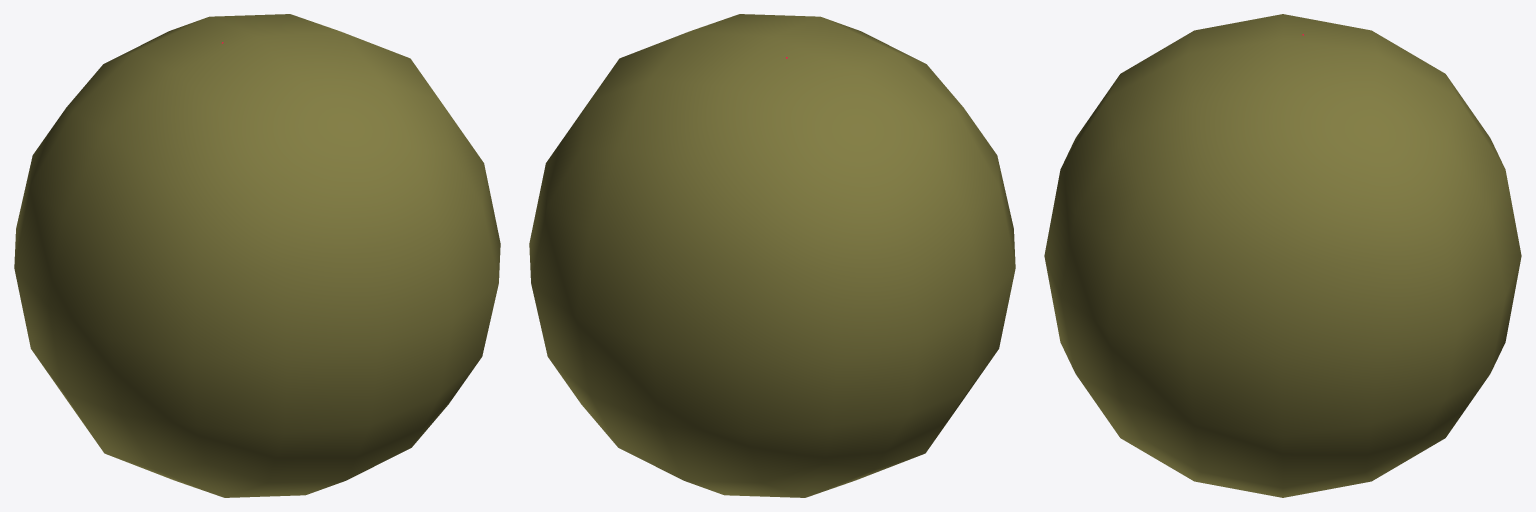
File: Planet-TypeB-Overpopulated.fbx
The picture shows the model from 3 angles, left to right: view 1: azimuth 30°, elevation 25°; view 2: azimuth 150°, elevation 25°; view 3: azimuth 270°, elevation 25°; orthographic projection.
Visible parts, largest first — view 1: Planet_TypeB_Overpopulated_Smog_01; view 2: Planet_TypeB_Overpopulated_Smog_01; view 3: Planet_TypeB_Overpopulated_Smog_01.
Boxes of the visible parts, <box> form: Planet_TypeB_Overpopulated_Smog_01: <box>14,14,500,497</box>; Planet_TypeB_Overpopulated_Smog_01: <box>529,14,1015,497</box>; Planet_TypeB_Overpopulated_Smog_01: <box>1044,14,1521,497</box>.
Size of the model in its own units: 2.39 by 2.39 by 2.39.
